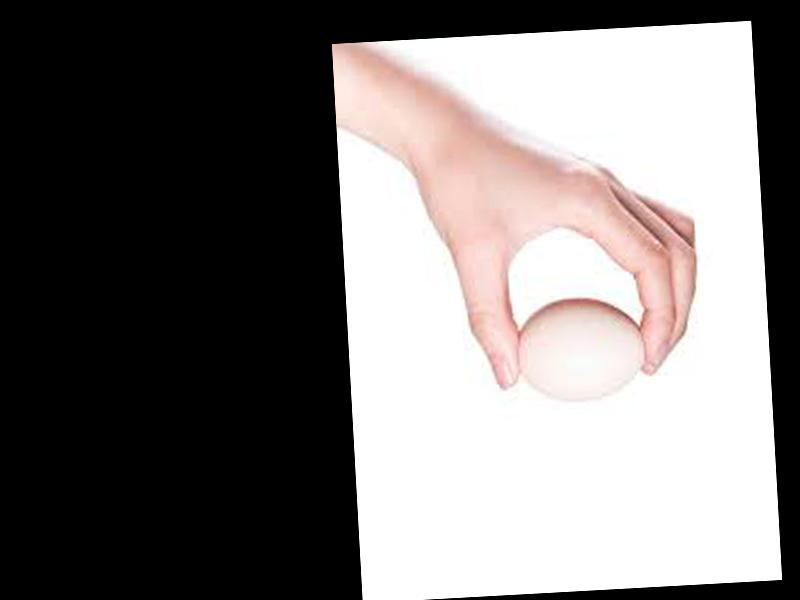Eggs: (513, 294, 648, 405)
